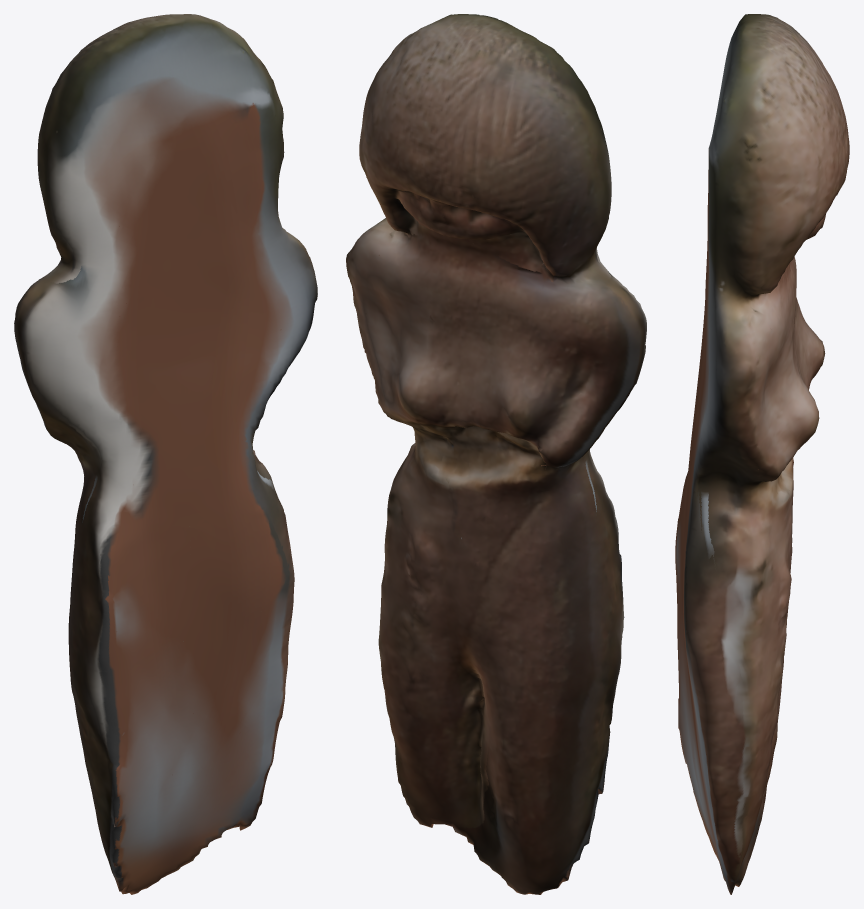
The model's file is figurilla completa.fbx.
3 views of the same model, side by side, from view 1: azimuth 30°, elevation 25°; view 2: azimuth 150°, elevation 25°; view 3: azimuth 270°, elevation 25° (orthographic).
Visible parts, largest first — view 1: figurilla completa; view 2: figurilla completa; view 3: figurilla completa.
Part boxes in pixels (x1,y1,x2,y2): figurilla completa: (14, 14, 317, 894); figurilla completa: (346, 14, 646, 894); figurilla completa: (675, 14, 849, 894).
Size of the model in its own units: 2.5 by 1.28 by 7.02.
Materials: 1 (1 with a texture image).
